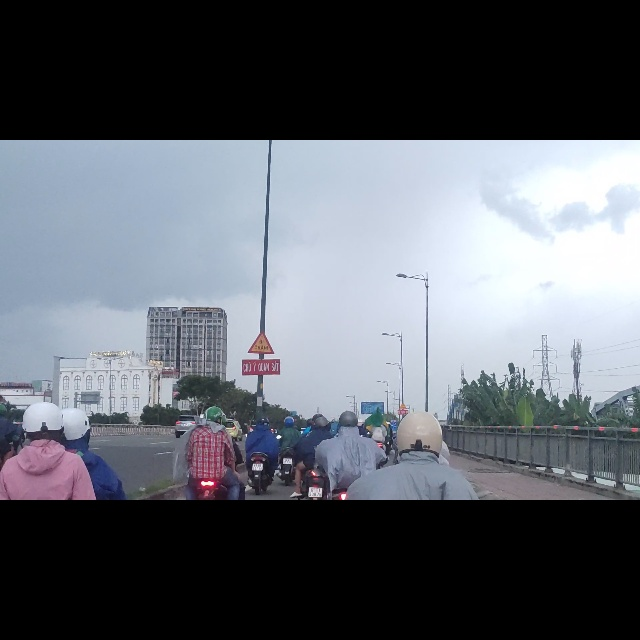bien_nguy_hiem: (247, 338, 275, 380)
